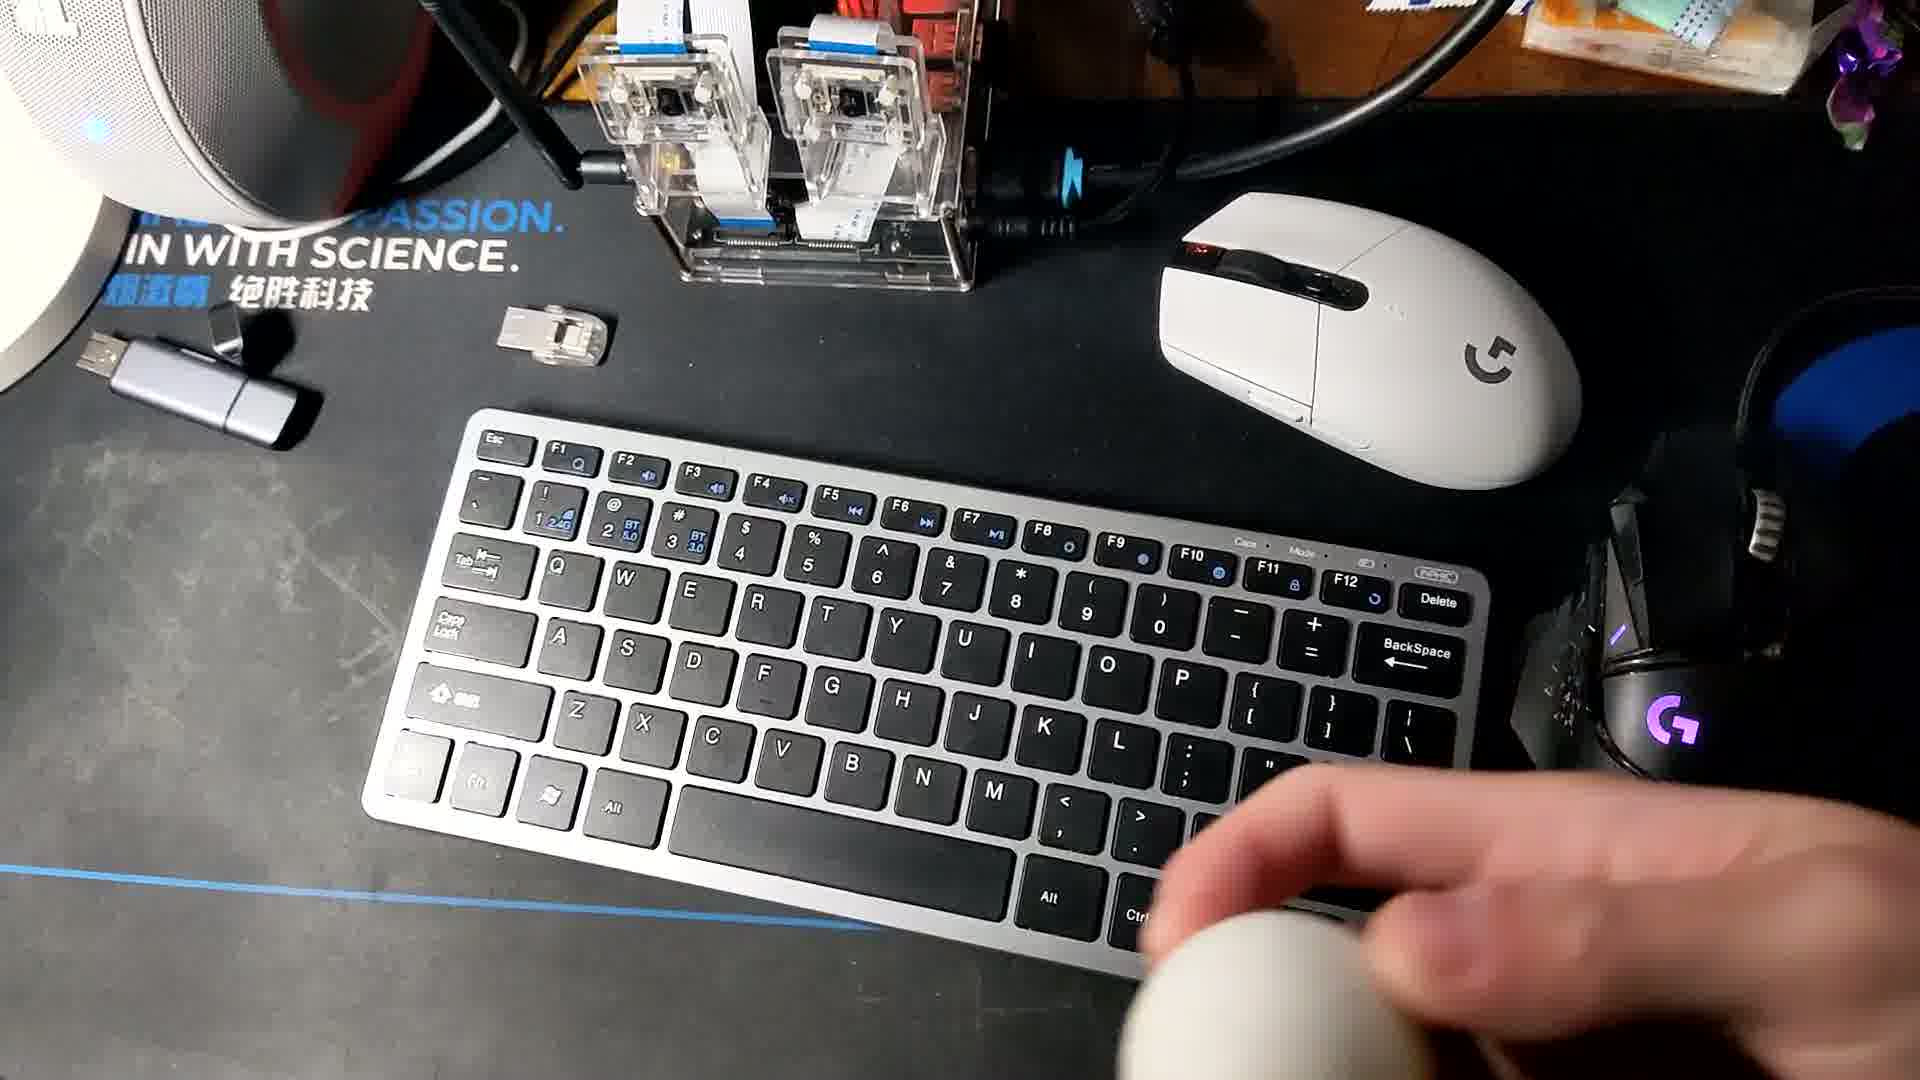Ball: (1118, 911, 1447, 1080)
